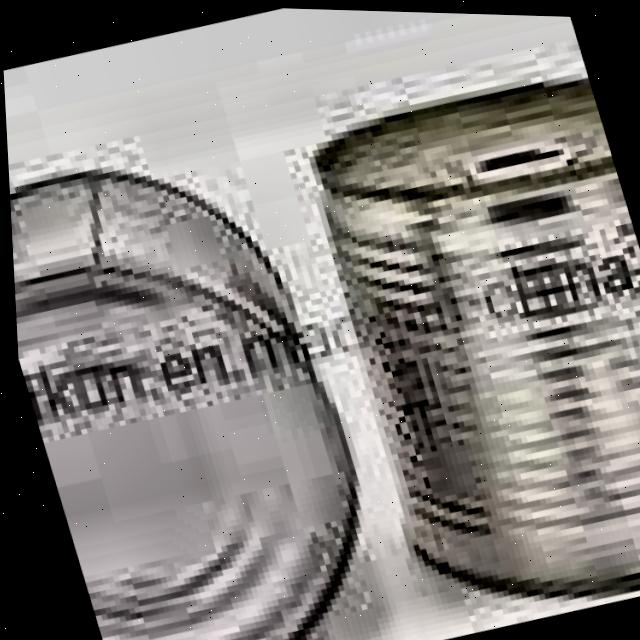metal: (263, 38, 640, 640), (5, 111, 418, 640)
